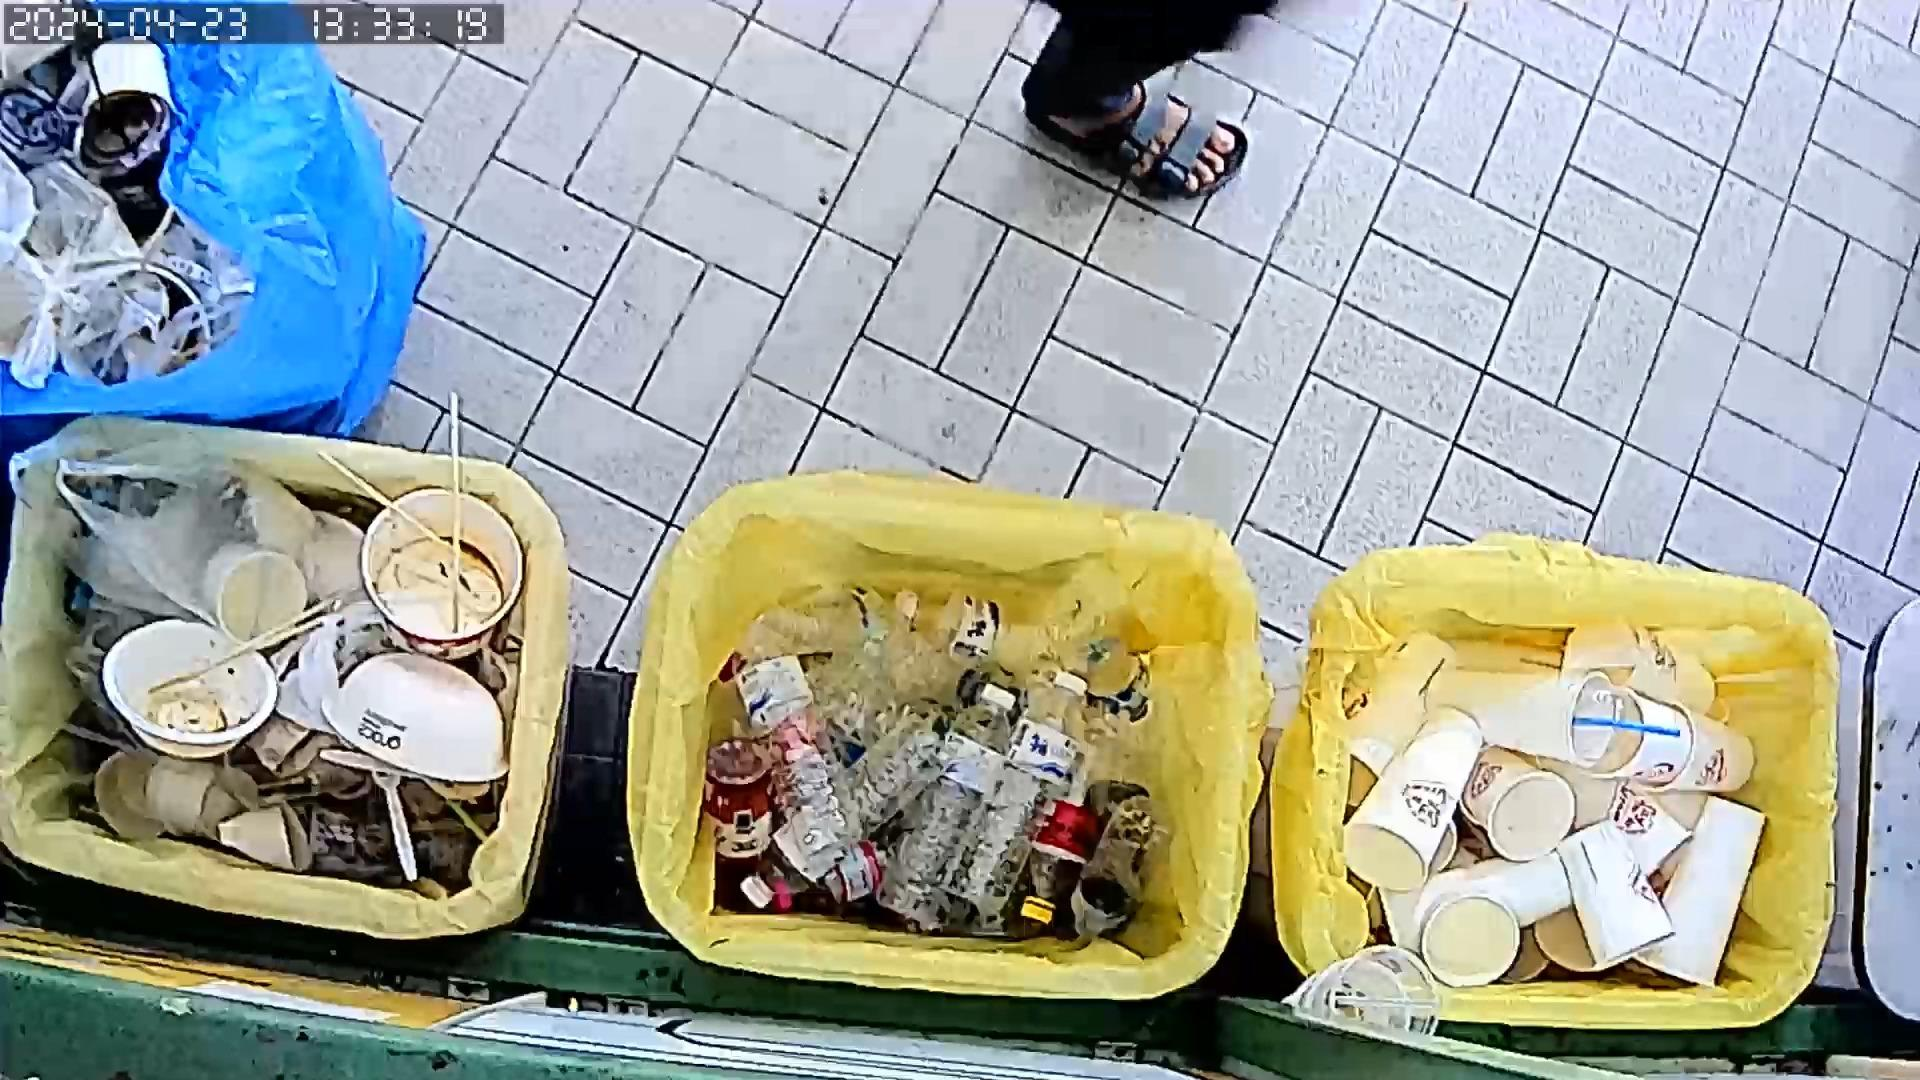can: (699, 737, 777, 873)
filled plastic bag: (28, 422, 311, 647)
food container: (364, 487, 530, 663), (331, 651, 516, 795), (100, 624, 280, 764), (149, 753, 266, 853), (1420, 886, 1526, 990), (87, 744, 175, 849)
plastic bottle: (733, 713, 948, 913), (938, 665, 1096, 920), (876, 680, 1025, 922), (724, 625, 872, 864), (1014, 713, 1121, 936), (1030, 583, 1159, 732), (1067, 795, 1176, 955), (893, 575, 1047, 674)
plastic cup: (294, 796, 422, 890)
plastic cutlery: (375, 542, 509, 604)
sticks: (274, 456, 440, 538), (436, 389, 469, 641)
straw: (1567, 712, 1681, 749)
tissue paper: (216, 794, 309, 881)
zero waste cup: (1618, 787, 1770, 990), (1335, 708, 1482, 903), (1369, 847, 1582, 961), (1337, 626, 1456, 814), (1420, 661, 1618, 767), (1559, 823, 1687, 975), (1569, 612, 1730, 717), (1452, 744, 1577, 865), (1625, 694, 1762, 802), (1577, 690, 1701, 791)
